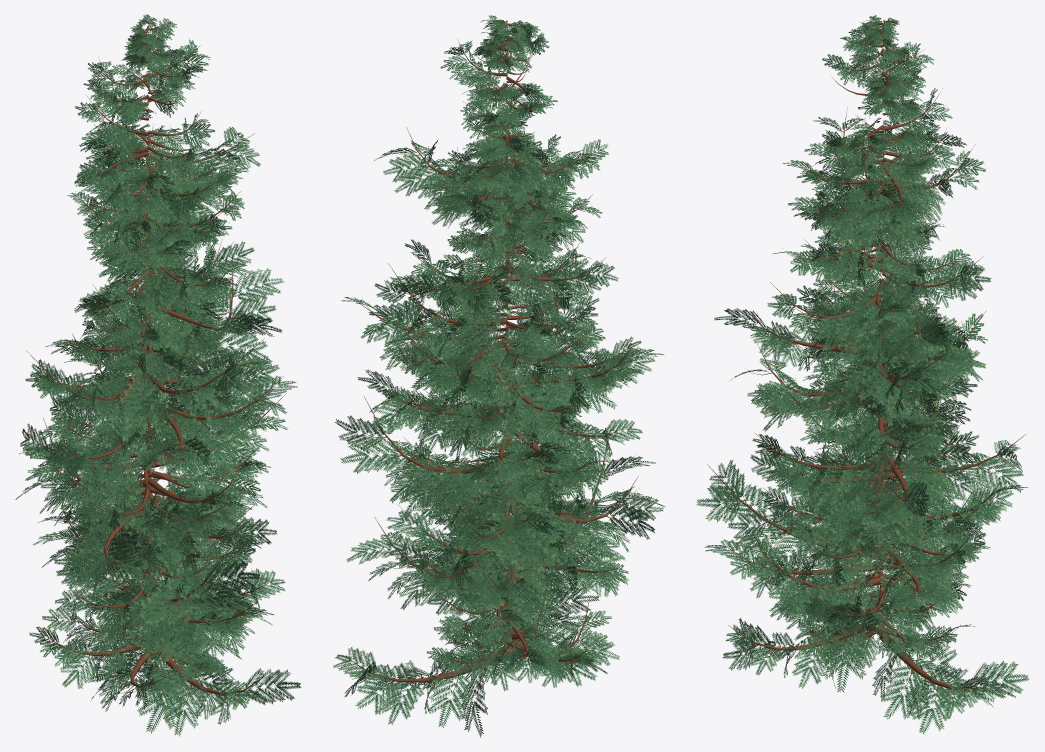
The model's file is forest-redwood-lod0.meshopt.glb.
3 views of the same model, side by side, from view 1: azimuth 30°, elevation 25°; view 2: azimuth 150°, elevation 25°; view 3: azimuth 270°, elevation 25° (orthographic). The views are drawn at different scales.
Visible parts, largest first — view 1: redwood-crown; view 2: redwood-crown; view 3: redwood-crown.
Boxes of the visible parts, x1,y1,x2,y2 form: redwood-crown: [15, 14, 301, 736]; redwood-crown: [333, 15, 665, 737]; redwood-crown: [696, 15, 1029, 734].
Size of the model in its own units: 19.76 by 45.59 by 20.64.
7 materials, 3 textured.
